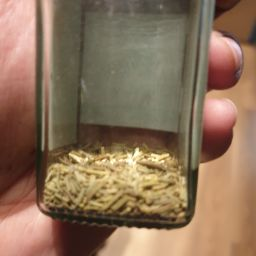Rosemary: (45, 50, 195, 234), (45, 111, 190, 254), (83, 133, 183, 223)
